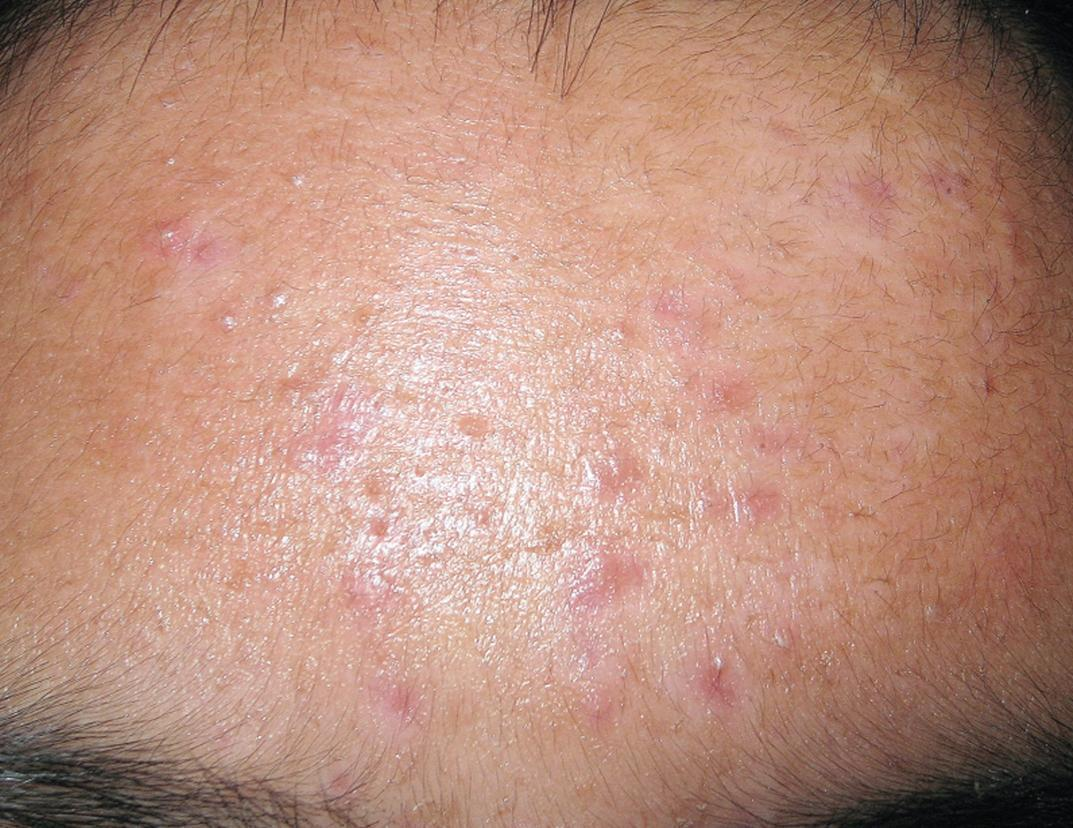papular: (576, 544, 649, 610), (704, 632, 751, 717), (137, 212, 192, 274)
whitehead: (274, 146, 340, 206), (900, 583, 964, 625), (161, 40, 199, 99), (775, 612, 821, 660), (265, 280, 310, 329), (295, 68, 340, 117), (156, 131, 201, 174), (209, 310, 252, 344)
